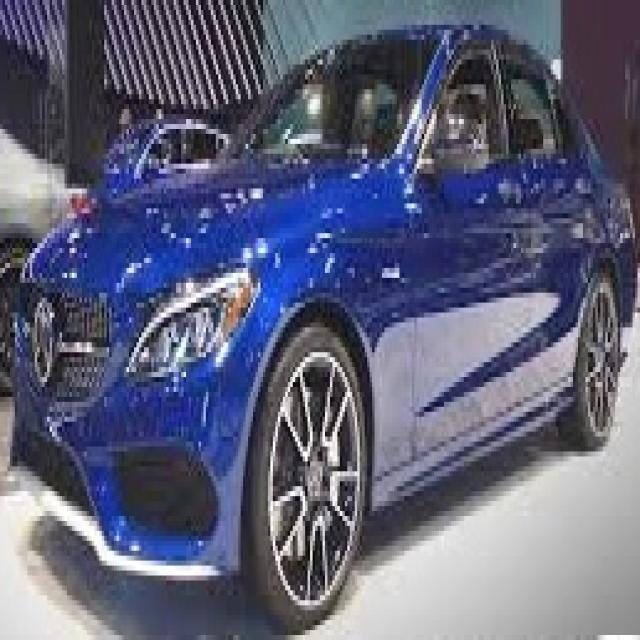blue: (10, 21, 636, 624)
